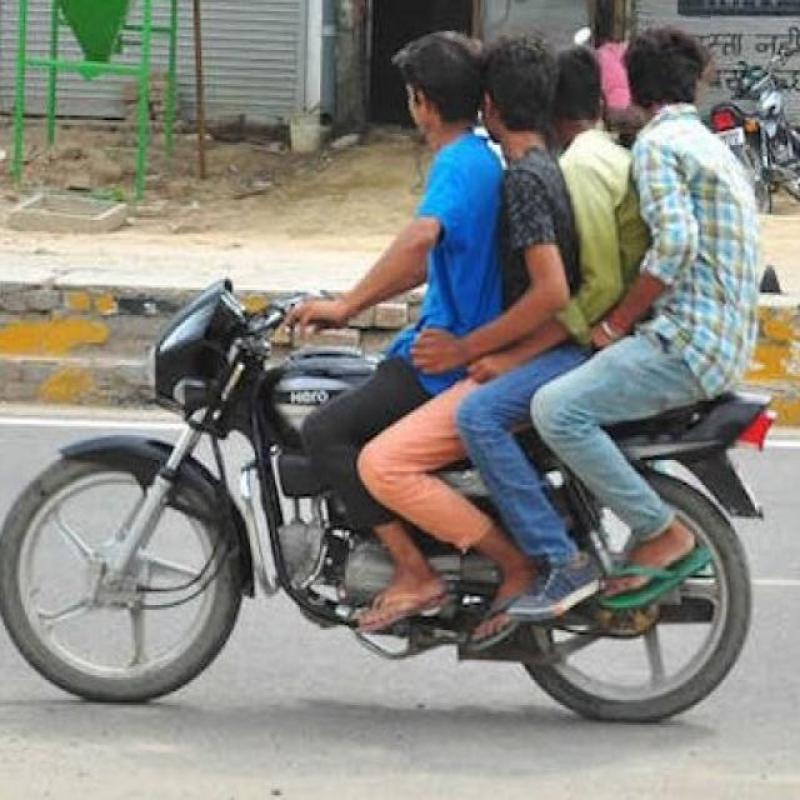nohelmet: (392, 32, 476, 134), (628, 12, 710, 116), (489, 26, 556, 135)
